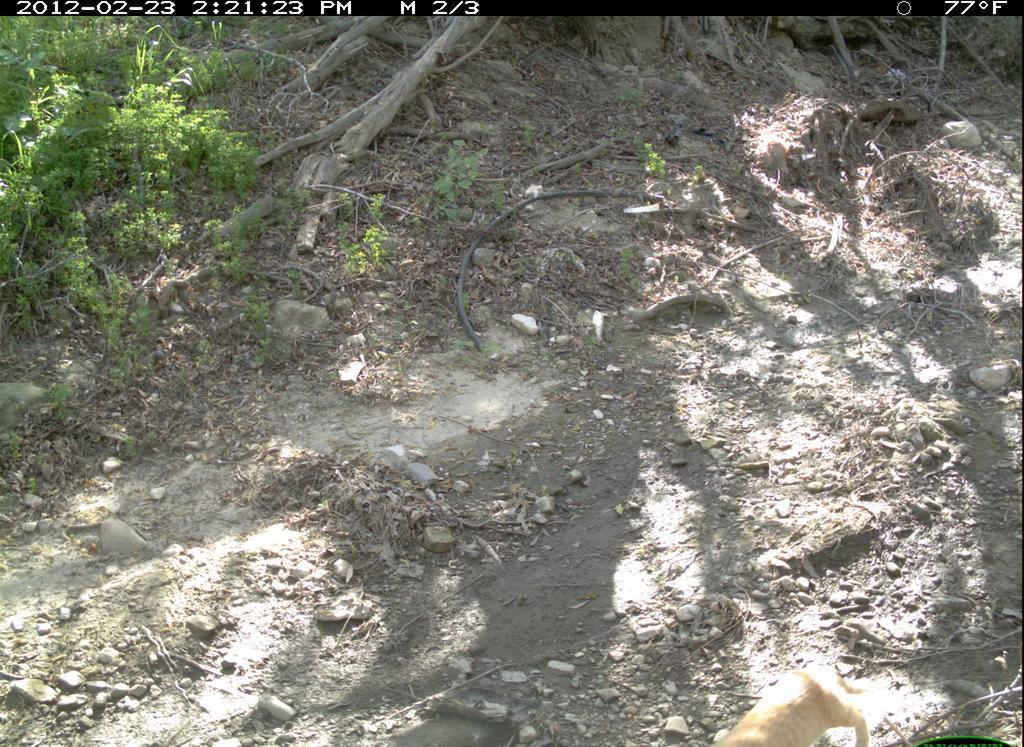cat: (690, 661, 880, 744)
